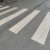zebra: (1, 5, 50, 45)
